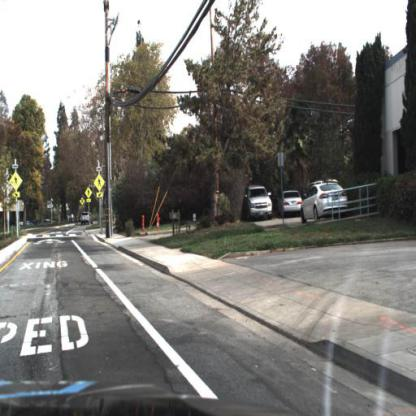car: (300, 183, 349, 223), (246, 184, 274, 222), (280, 188, 303, 217), (82, 211, 93, 227)
